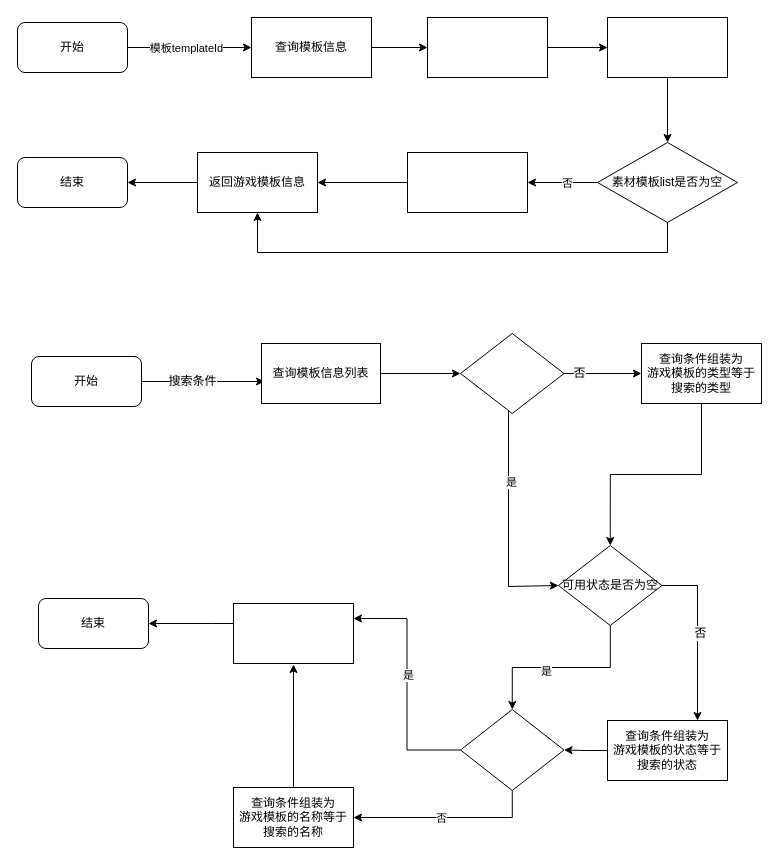
Some shapes in this 779 by 865 pixel diagram are drawn without their labels. Here are the shapes that lost their labels. From the top down, the centre of each, then its label:
At point 487,47: "根据templateId从游戏模板表查询模板".
At point 667,47: "根据条件游戏素材的模板ID等于templateId查询素材模板的信息".
At point 467,182: "填充到游戏模板的素材列表字段中".
At point 512,373: "模板类型是否为空".
At point 293,633: "根据组装的条件查询游戏模板表并返回".
At point 512,749: "模板名称是否为空".
